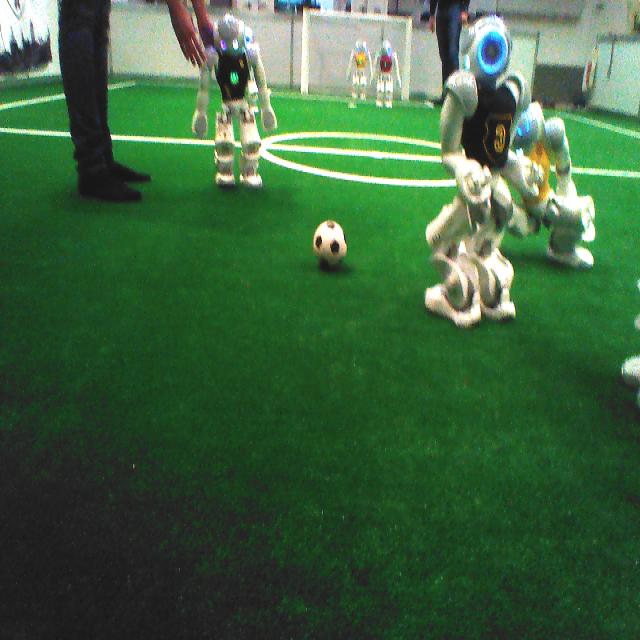ball: (308, 218, 355, 274)
goalpost: (402, 18, 413, 98), (300, 8, 310, 93)
